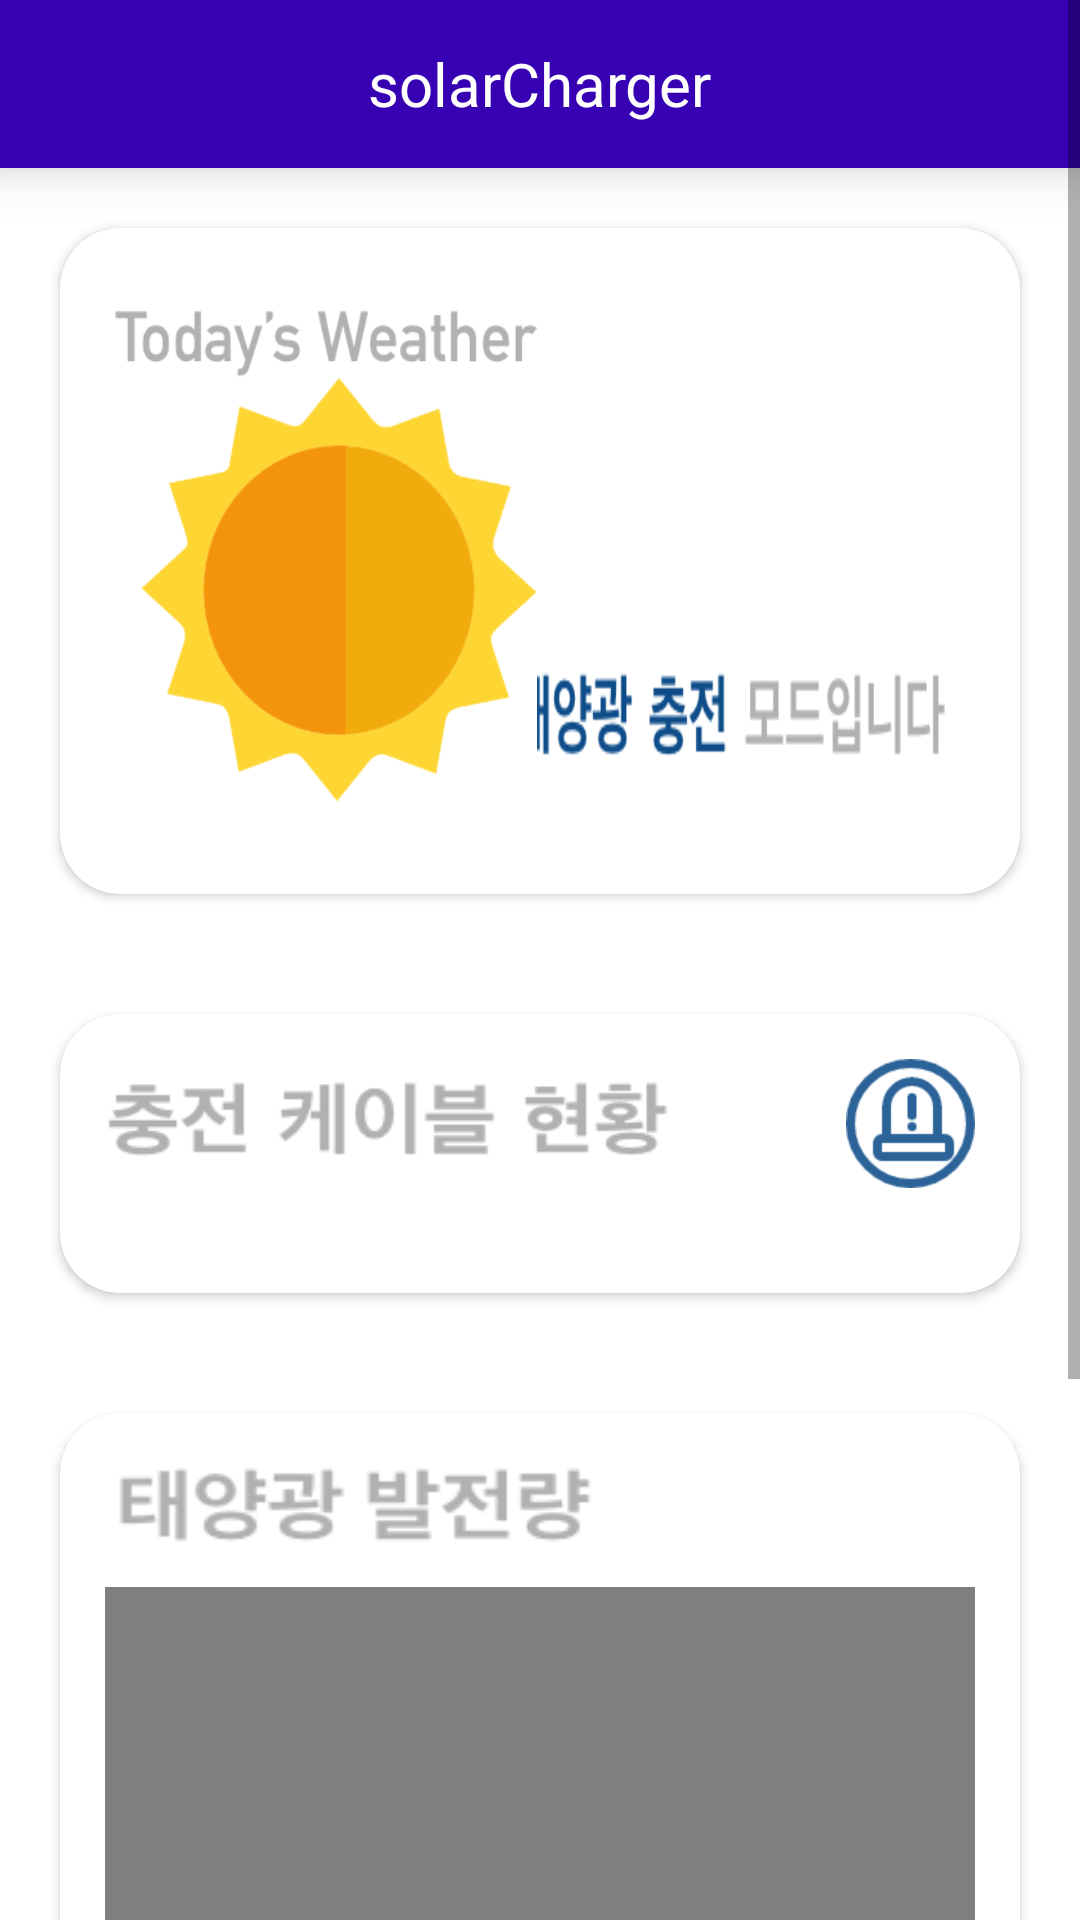

Icons on this 1080w x 1920h Android screen, each with the point to tap as (x=x, y=y):
report: (x=910, y=1123)
